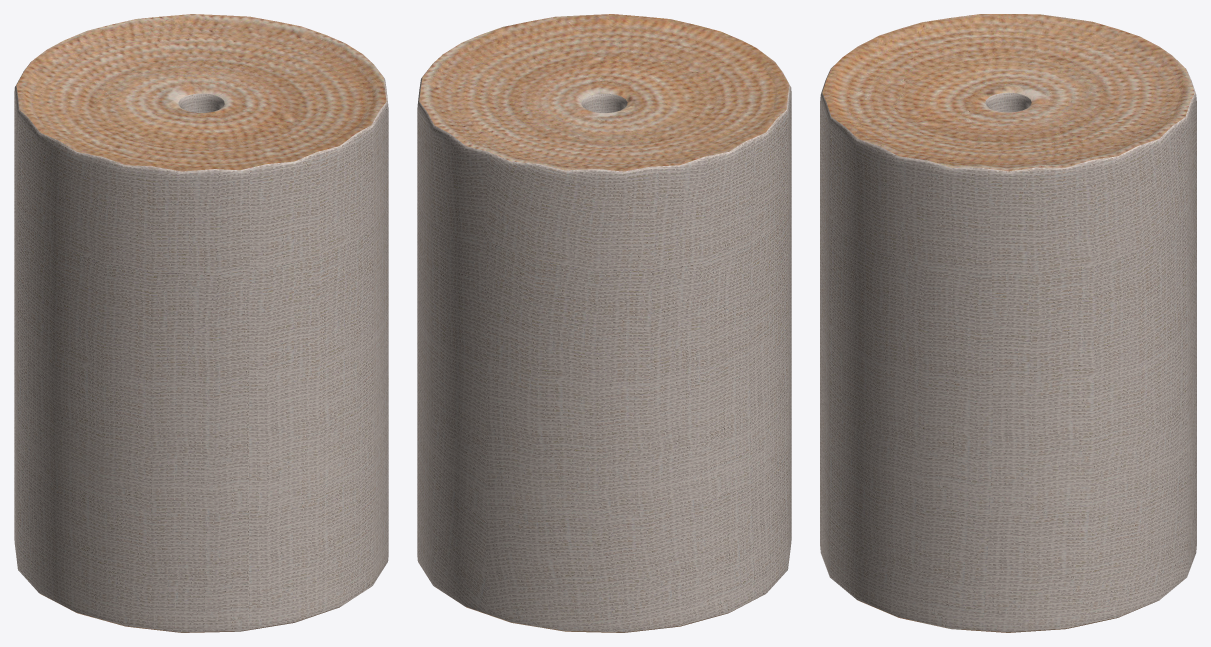
The model's file is bandageroll.fbx.
3 views of the same model, side by side, from view 1: azimuth 30°, elevation 25°; view 2: azimuth 150°, elevation 25°; view 3: azimuth 270°, elevation 25° (orthographic).
Parts seen in each view (by area): view 1: bandageroll; view 2: bandageroll; view 3: bandageroll.
Boxes of the visible parts, <box> form: bandageroll: <box>14,14,388,632</box>; bandageroll: <box>417,14,791,632</box>; bandageroll: <box>820,14,1196,632</box>.
Bounding box in the file's own units: 5.84 × 7.93 × 5.84.
1 material, 1 textured.
